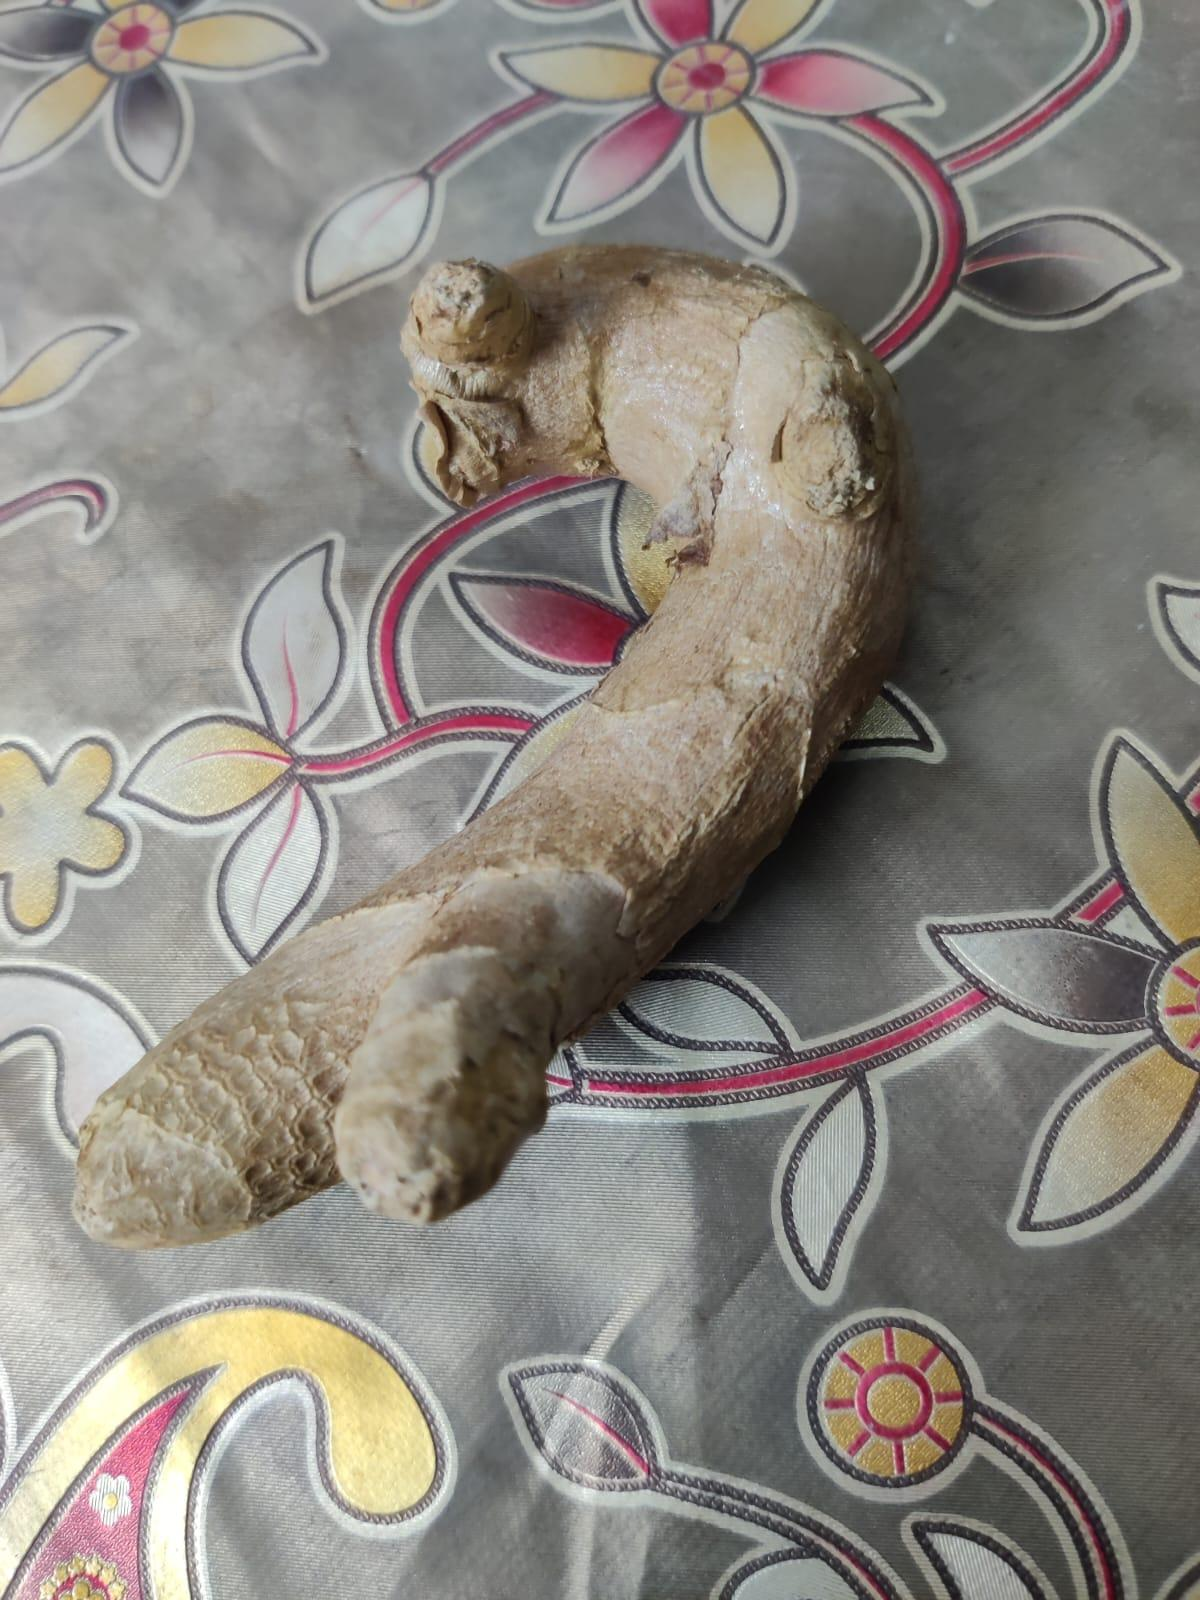non-mango: (73, 224, 914, 1255)
